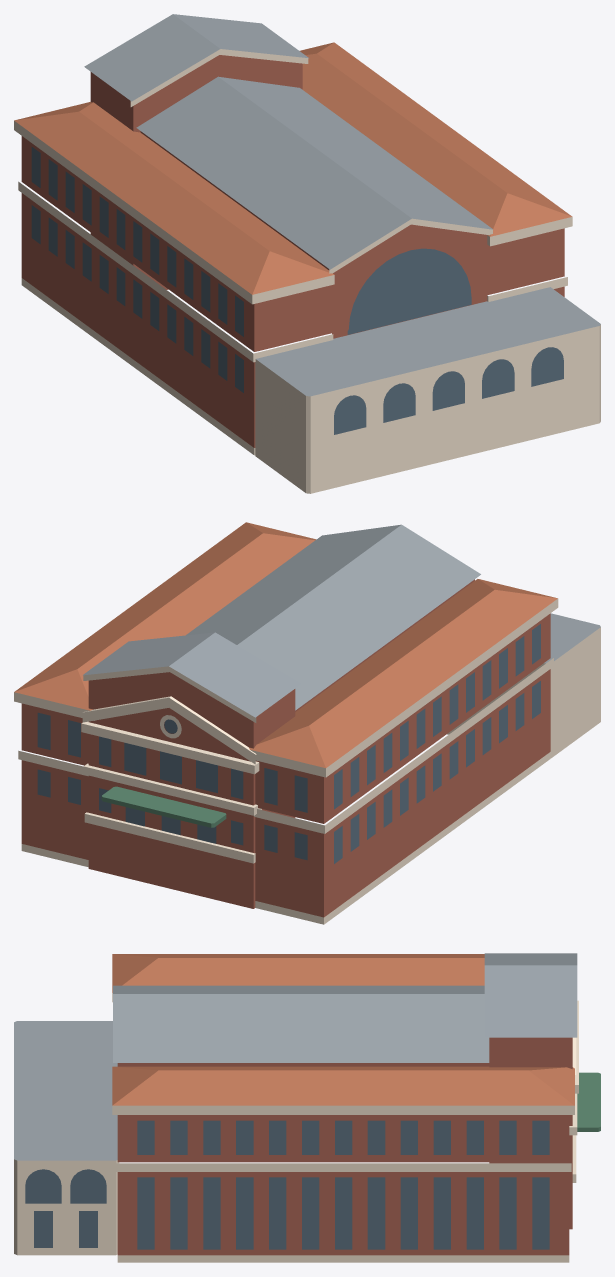
3 renders of one model, top to bottom at view 1: azimuth 30°, elevation 25°; view 2: azimuth 150°, elevation 25°; view 3: azimuth 270°, elevation 25°, orthographic. The views are drawn at different scales.
Visible parts, largest first — view 1: union-station; view 2: union-station; view 3: union-station.
Part boxes in pixels (<box>): union-station: <box>14,14,600,493</box>; union-station: <box>14,522,600,924</box>; union-station: <box>14,953,600,1262</box>.
Bounding box in the file's own units: 45.4 × 31.2 × 74.22.
